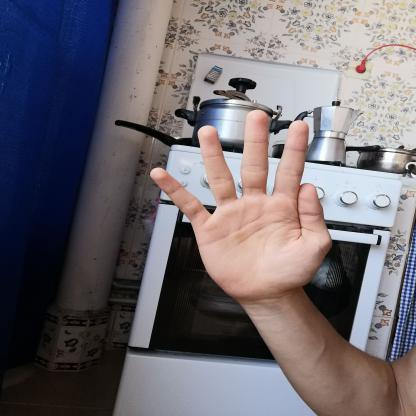SHEEN: (136, 102, 344, 310)
